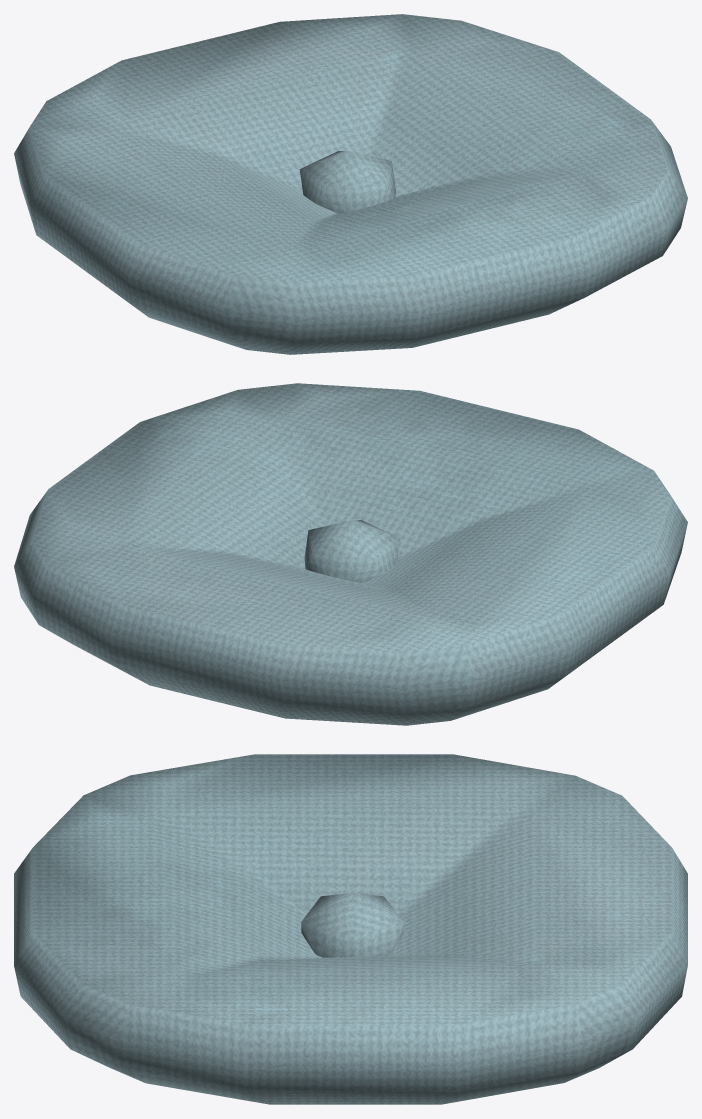
The model's file is Tropics Cushion.fbx.
The picture shows the model from 3 angles, top to bottom: view 1: azimuth 30°, elevation 25°; view 2: azimuth 150°, elevation 25°; view 3: azimuth 270°, elevation 25°; orthographic projection. The views are drawn at different scales.
Parts seen in each view (by area): view 1: Cylinder; view 2: Cylinder; view 3: Cylinder.
Boxes of the visible parts, x1,y1,x2,y2 form: Cylinder: [14, 14, 687, 354]; Cylinder: [14, 383, 687, 725]; Cylinder: [14, 754, 687, 1104].
Bounding box in the file's own units: 1067 × 158 × 1062.
